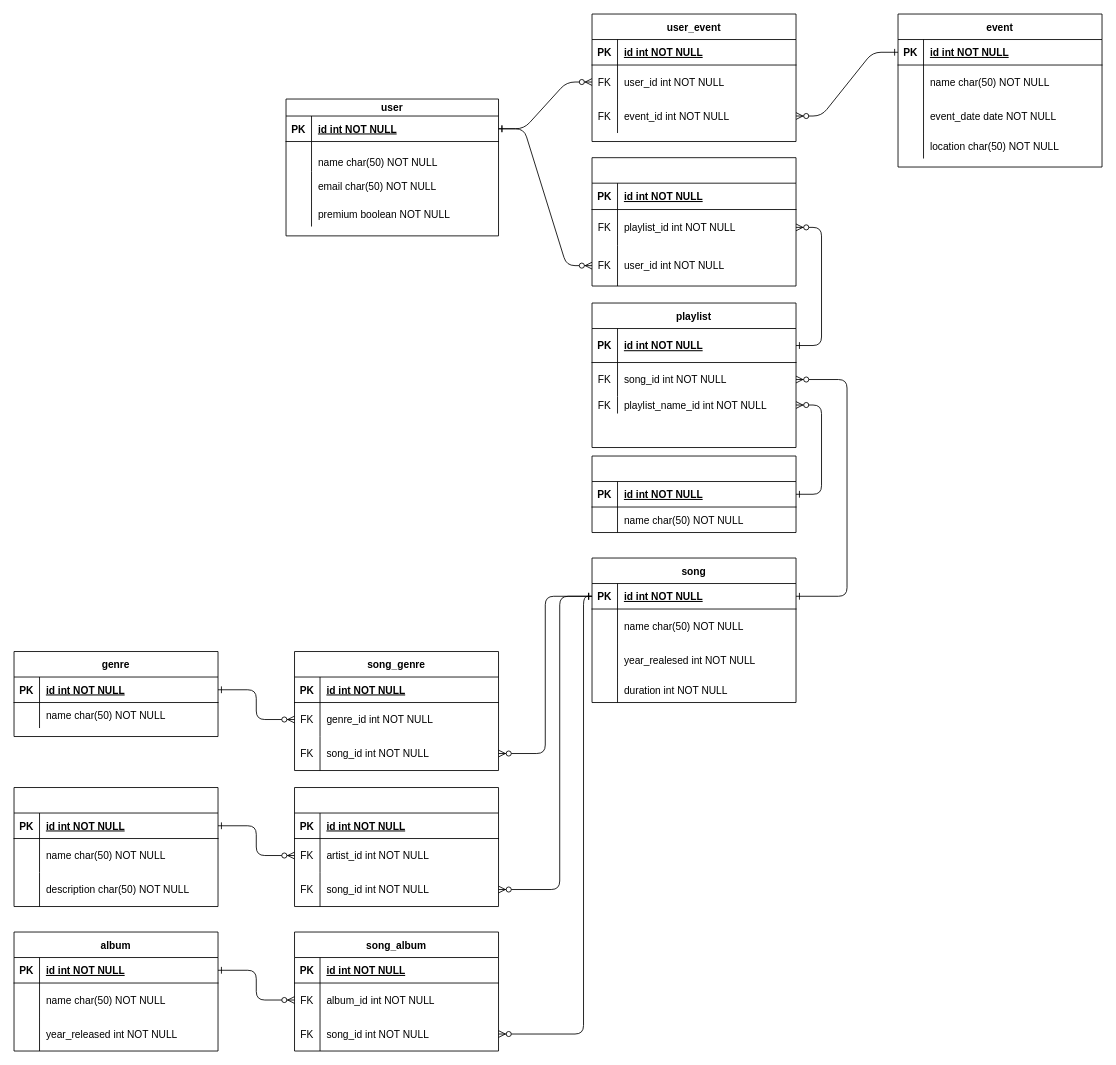
The diagram is 1116 pixels wide and 1065 high, and some of its shapes have lost their labels. The shapes that lost their labels are listed below. From the top down, each one's box as (x1, y1, x2, y2) in pixels, then its label:
(591, 157, 796, 286): user_playlist
(591, 455, 796, 533): playlist_name
(13, 787, 218, 907): artist
(294, 787, 499, 907): song_artist
